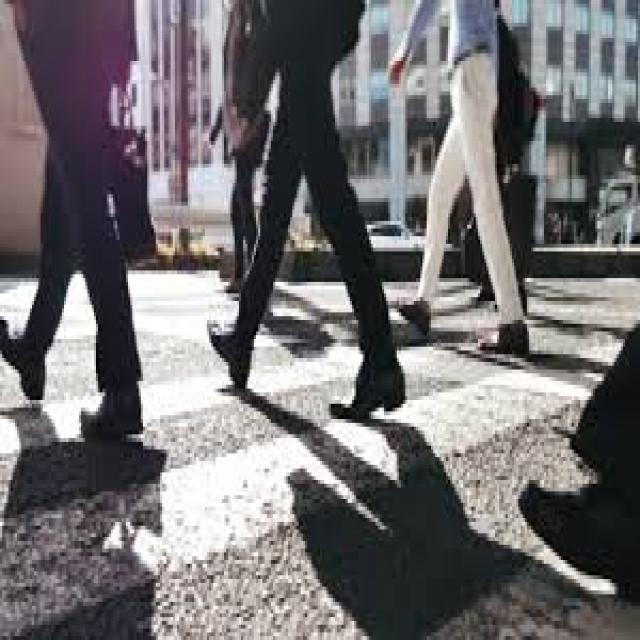Pedestrians: (209, 8, 408, 422), (2, 4, 147, 446), (399, 4, 533, 358)
